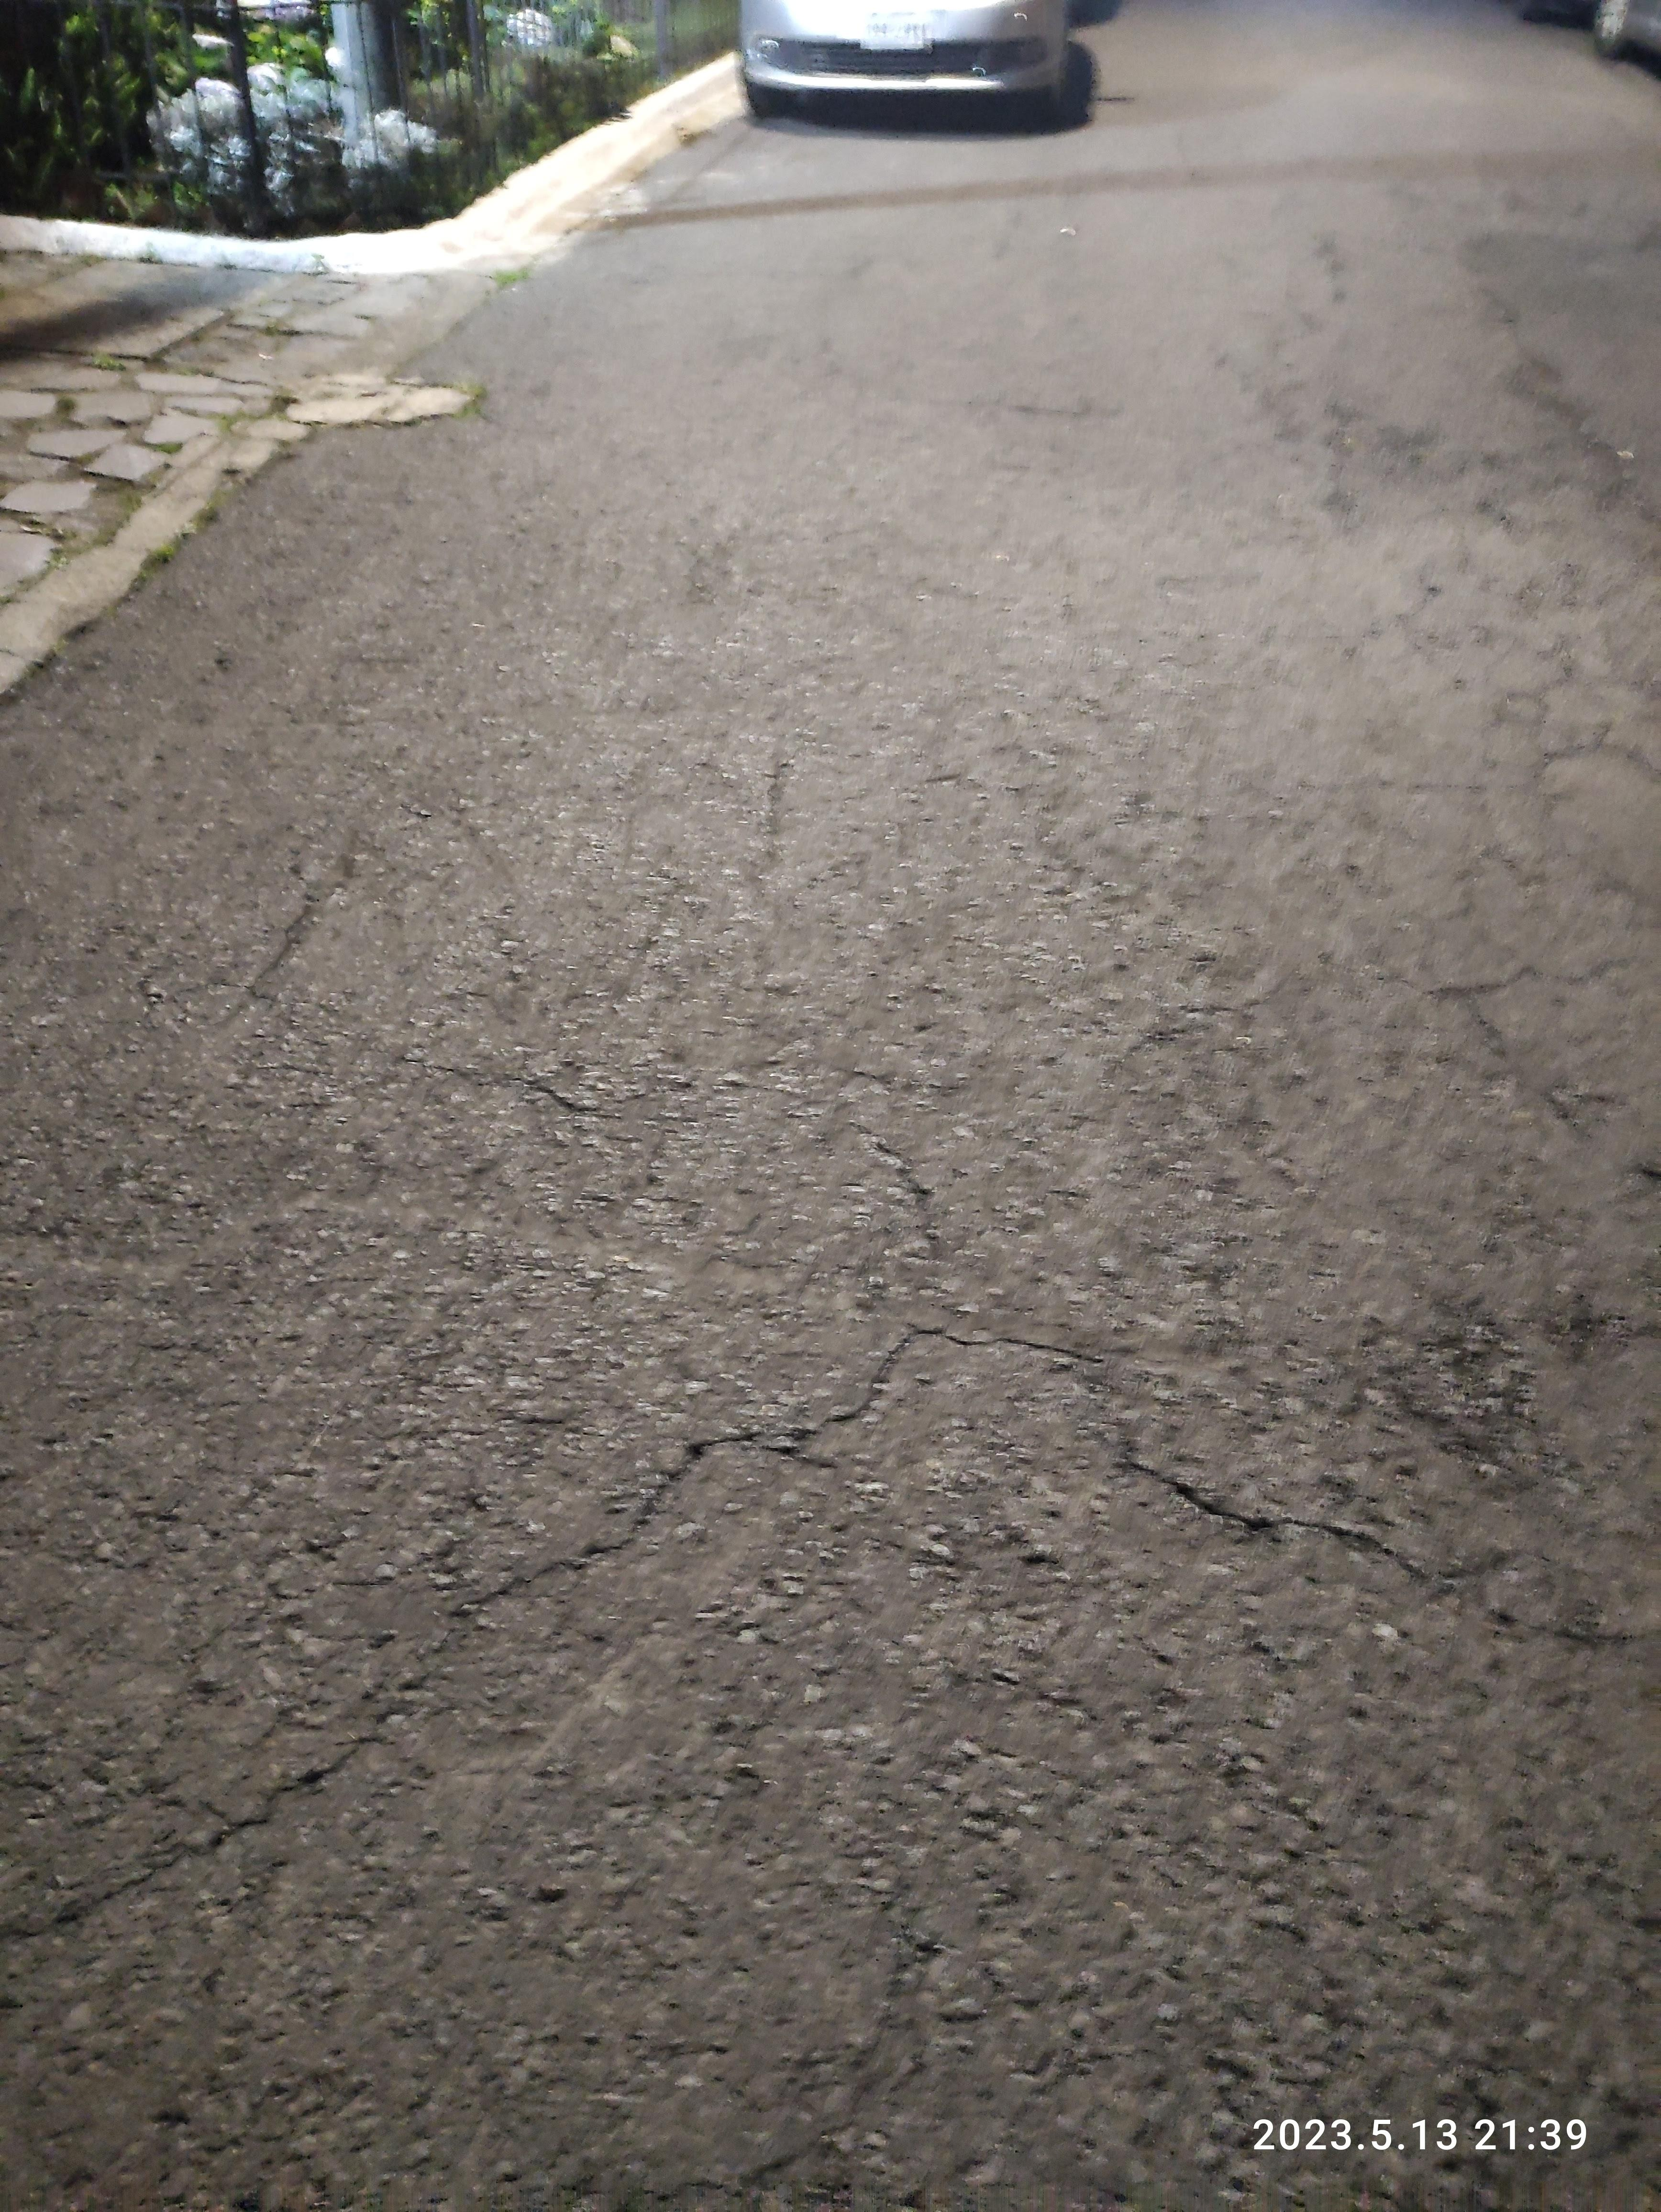crack: (0, 1317, 1104, 1952), (1110, 1411, 1661, 1654)
